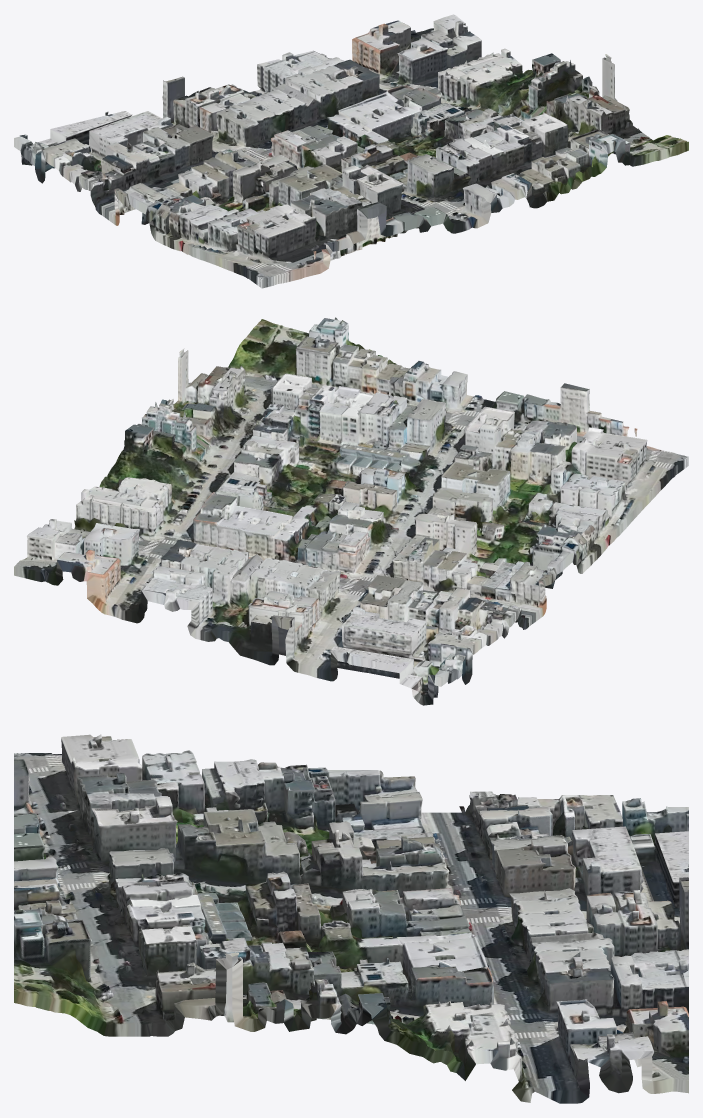
Rendered from z17-20963-50650-h0-yup-uvflip-v3-world.glb.
3 views of the same model, one above another, from view 1: azimuth 30°, elevation 25°; view 2: azimuth 150°, elevation 25°; view 3: azimuth 270°, elevation 25° (orthographic). The views are drawn at different scales.
Size of the model in its own units: 241 by 71.68 by 243.
1 material, 1 textured.
